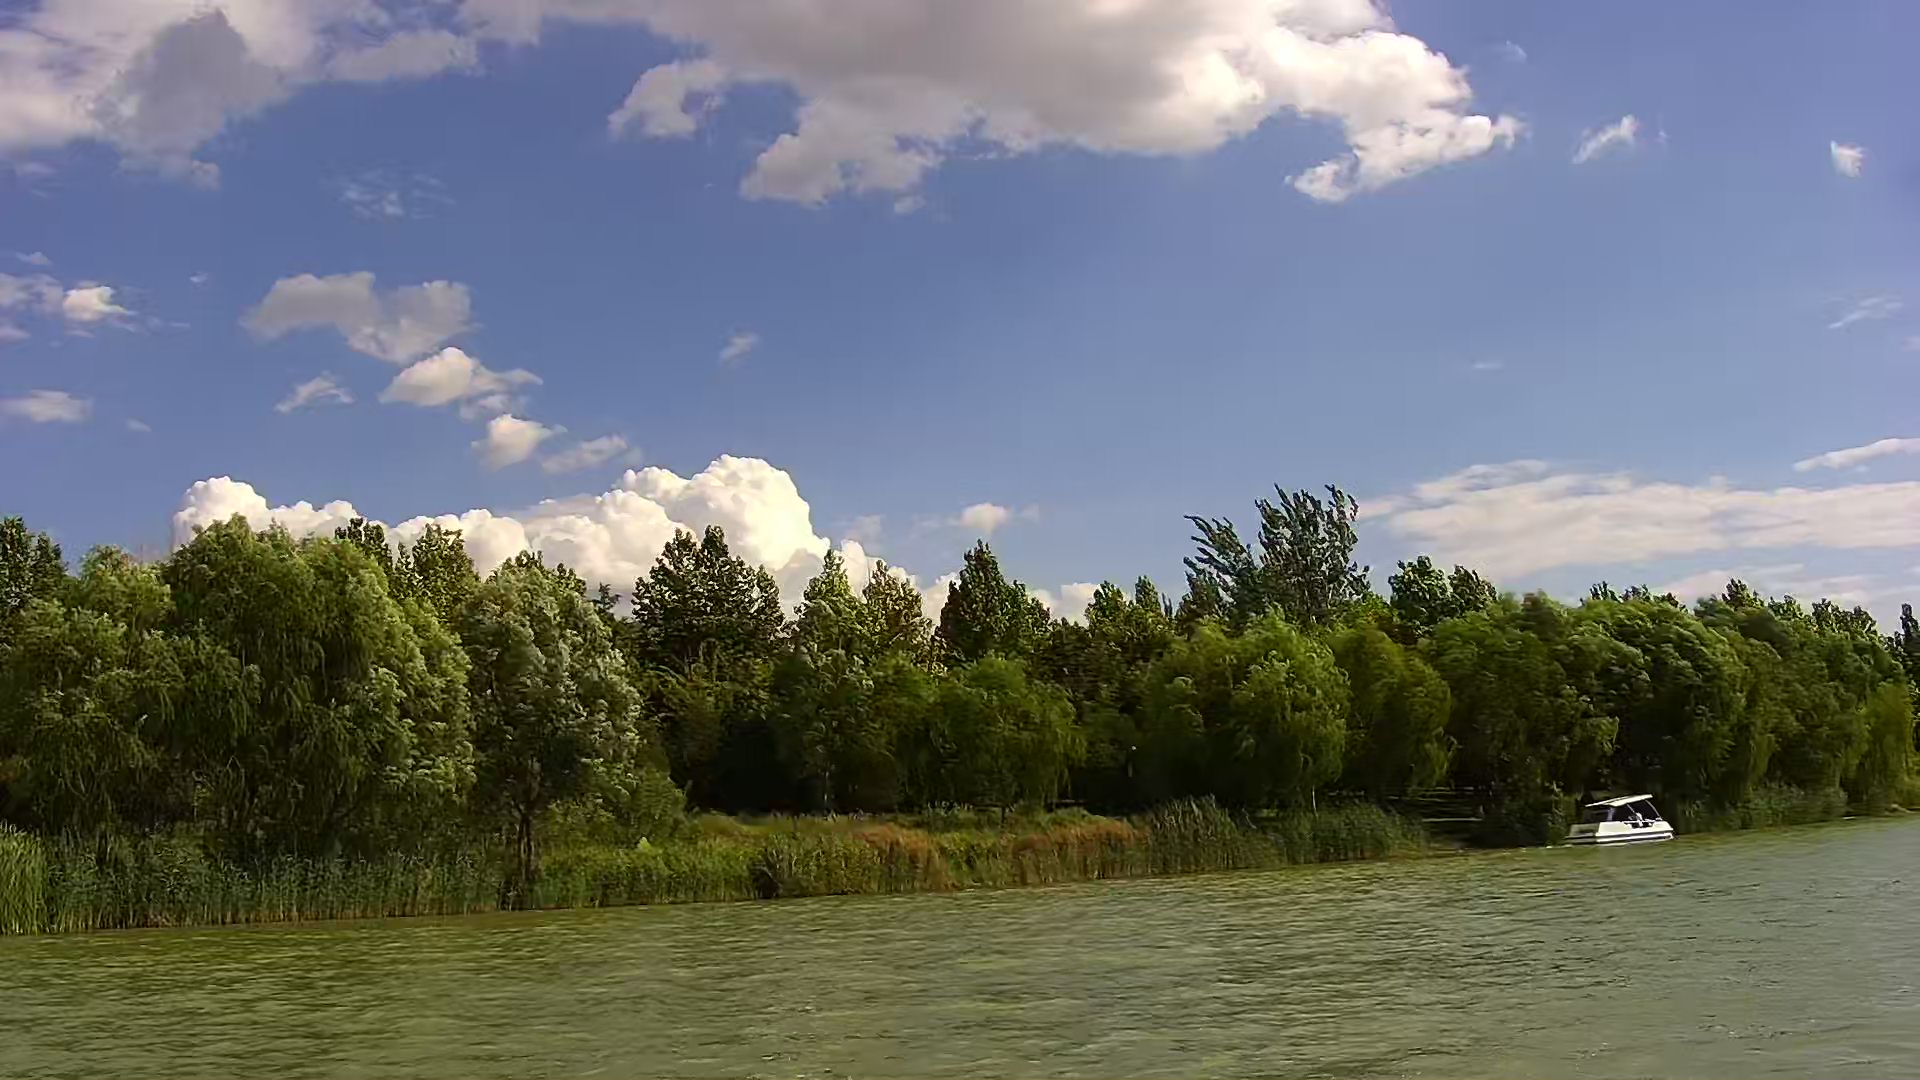boat: (1567, 796, 1673, 845)
